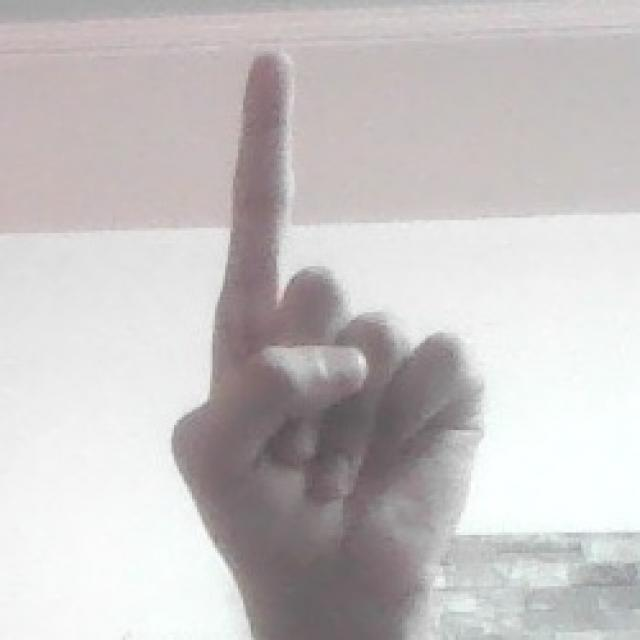Numeric-1: (171, 46, 482, 633)
